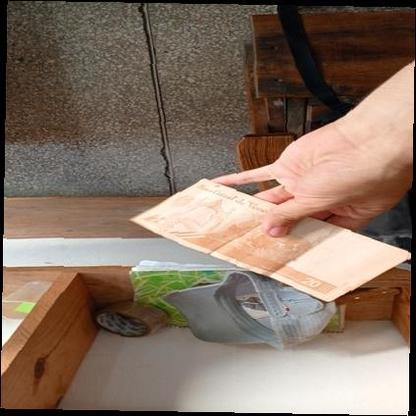vef_back: (130, 178, 411, 302)
